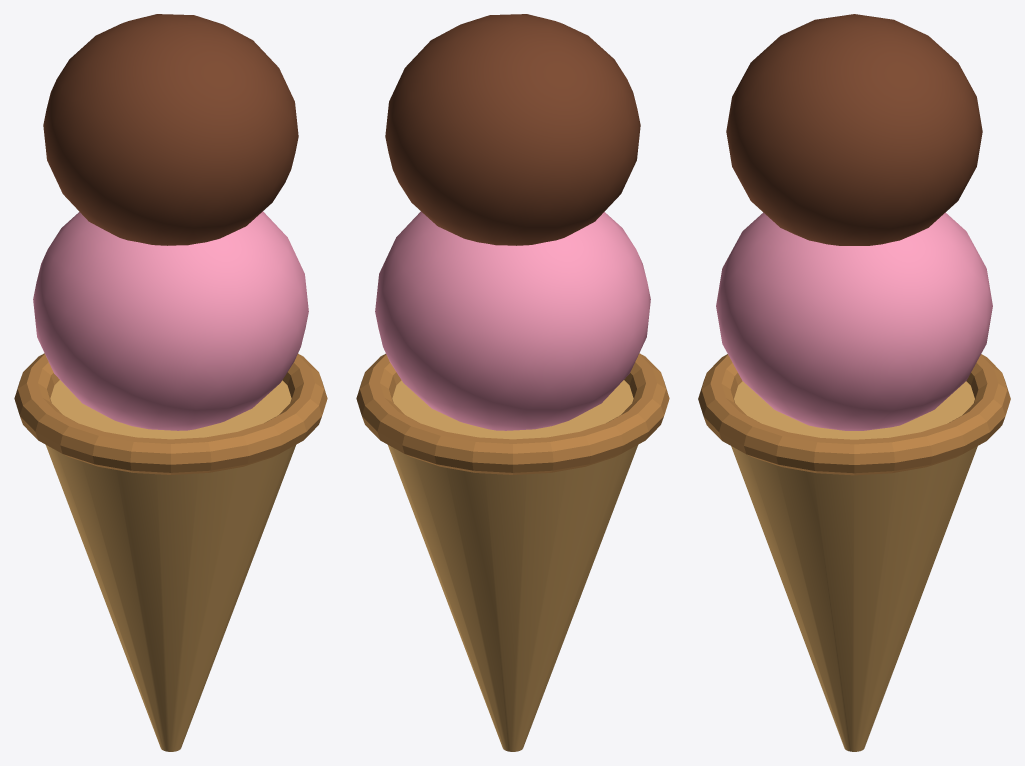
File: Ice_L5.fbx
The picture shows the model from 3 angles, left to right: view 1: azimuth 30°, elevation 25°; view 2: azimuth 150°, elevation 25°; view 3: azimuth 270°, elevation 25°; orthographic projection.
Parts seen in each view (by area): view 1: I5_Scoop2, I5_Scoop1, I5_Cone, I5_Rim; view 2: I5_Scoop2, I5_Scoop1, I5_Cone, I5_Rim; view 3: I5_Scoop2, I5_Scoop1, I5_Cone, I5_Rim.
Boxes of the visible parts, x1=… form: I5_Scoop2: x1=43, y1=14, x2=298, y2=245; I5_Scoop1: x1=33, y1=211, x2=308, y2=430; I5_Cone: x1=46, y1=380, x2=295, y2=751; I5_Rim: x1=14, y1=353, x2=327, y2=474; I5_Scoop2: x1=385, y1=14, x2=640, y2=245; I5_Scoop1: x1=375, y1=211, x2=650, y2=430; I5_Cone: x1=388, y1=380, x2=637, y2=751; I5_Rim: x1=356, y1=353, x2=669, y2=474; I5_Scoop2: x1=726, y1=14, x2=982, y2=245; I5_Scoop1: x1=716, y1=212, x2=992, y2=430; I5_Cone: x1=731, y1=381, x2=977, y2=751; I5_Rim: x1=698, y1=354, x2=1010, y2=475.
Size of the model in its own units: 12.2 by 31 by 12.2.
